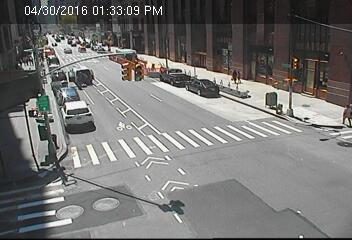neg: (130, 136, 158, 173), (77, 129, 102, 164), (113, 71, 135, 101), (36, 102, 58, 132), (199, 142, 220, 171)
pos: (333, 98, 351, 129), (229, 63, 245, 85)
